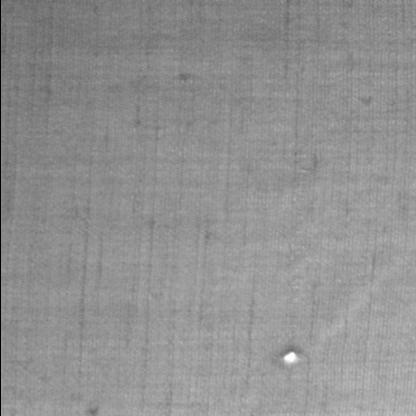hole: (277, 350, 301, 366)
